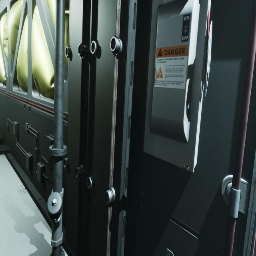FireExtinguisher ]: (0, 134, 4, 145)
SafetySwitchPanel ,: (144, 0, 212, 173)
